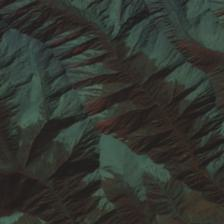landslides: (3, 0, 39, 20), (178, 153, 190, 162)
